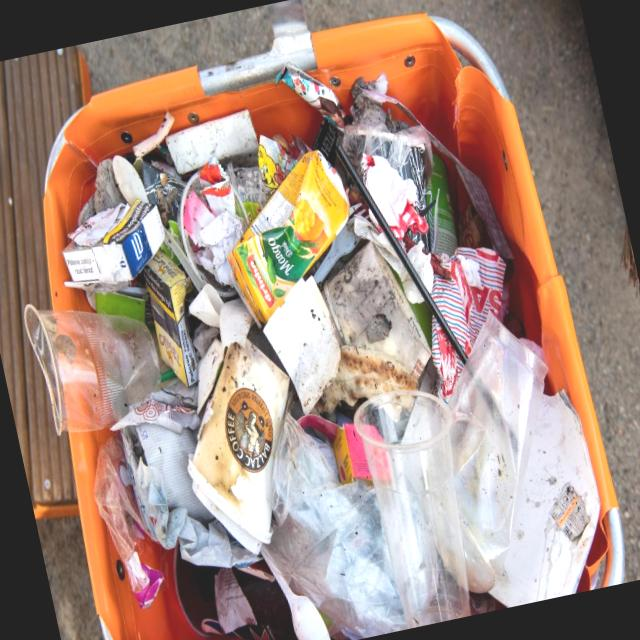garbage: (0, 1, 621, 640)
